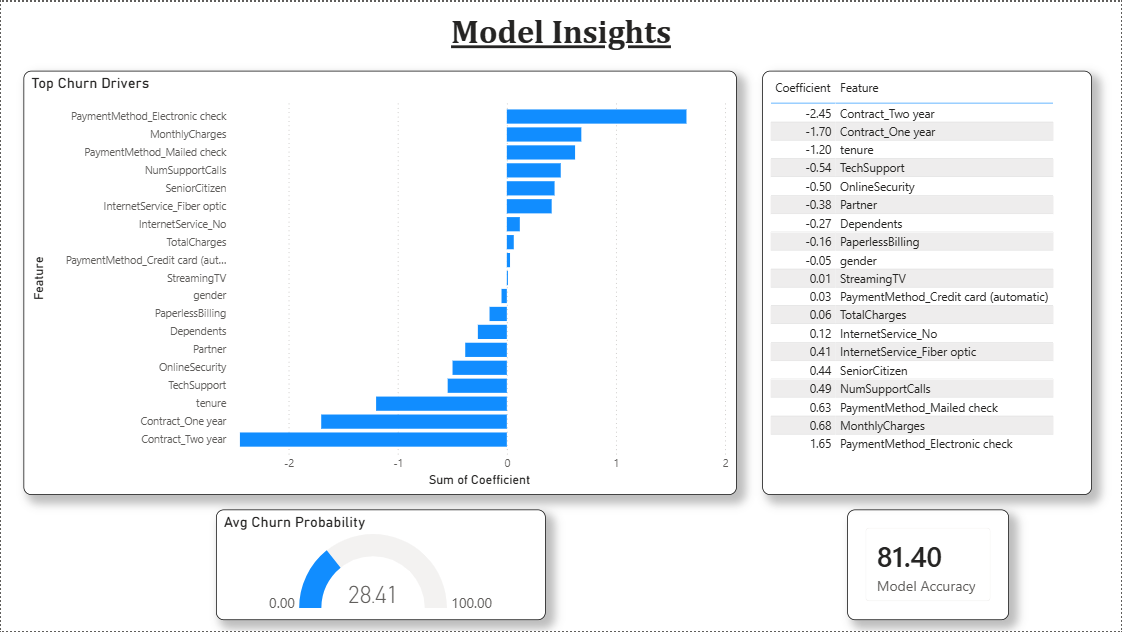

Layout of this report page (visuals, bound fields, positions):
{"tool":"powerbi","page":{"name":"Model Insights","canvas":[1280,720],"ordinal":2},"visuals":[{"type":"clusteredBarChart","title":"Top Churn Drivers","fields":{"Category":["feature_importance.Feature"],"Y":["Sum(feature_importance.Coefficient)"]},"box":[25,78.3,815,485],"z":0},{"type":"cardVisual","fields":{"Data":["churn_scored_for_powerbi.Model Accuracy"]},"box":[966.7,580,185,126.7],"z":1000},{"type":"gauge","fields":{"Y":["churn_scored_for_powerbi.Avg Churn Probability"]},"box":[245,580,376.7,126.7],"z":2000},{"type":"tableEx","fields":{"Values":["feature_importance.Coefficient","feature_importance.Feature"]},"box":[870,78.3,376.7,485],"z":3000},{"type":"textbox","box":[500,6.9,280,60],"z":4000}]}

Visuals, with their boxes in screenshot pixels (x1, y1, x2, y2), scaled from the page's 1280x720 canvas onto the 1122x632 screenshot:
"Top Churn Drivers" clusteredBarChart: locate(22, 69, 736, 494)
cardVisual - churn_scored_for_powerbi.Model Accuracy: locate(847, 509, 1010, 620)
gauge - churn_scored_for_powerbi.Avg Churn Probability: locate(215, 509, 545, 620)
tableEx - feature_importance.Coefficient x feature_importance.Feature: locate(763, 69, 1093, 494)
textbox: locate(438, 6, 684, 59)
